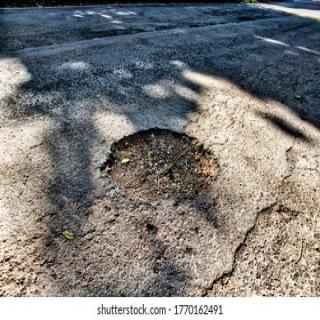pothole: (100, 128, 222, 218)
